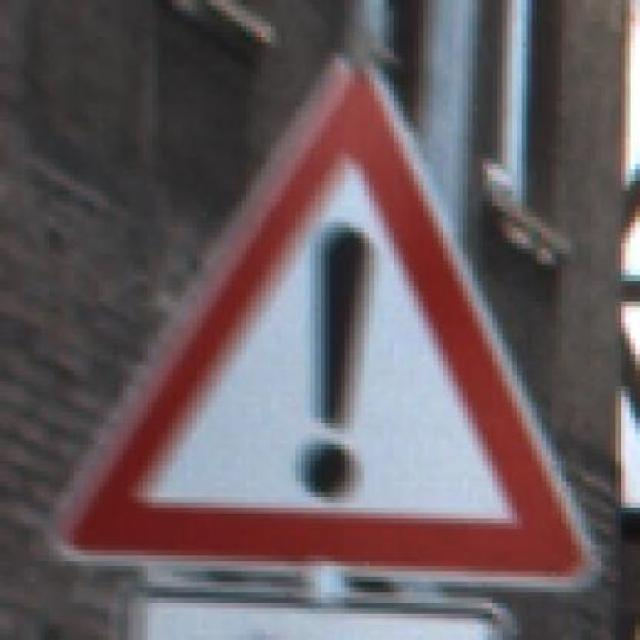Attention Please-: (39, 69, 606, 603)
